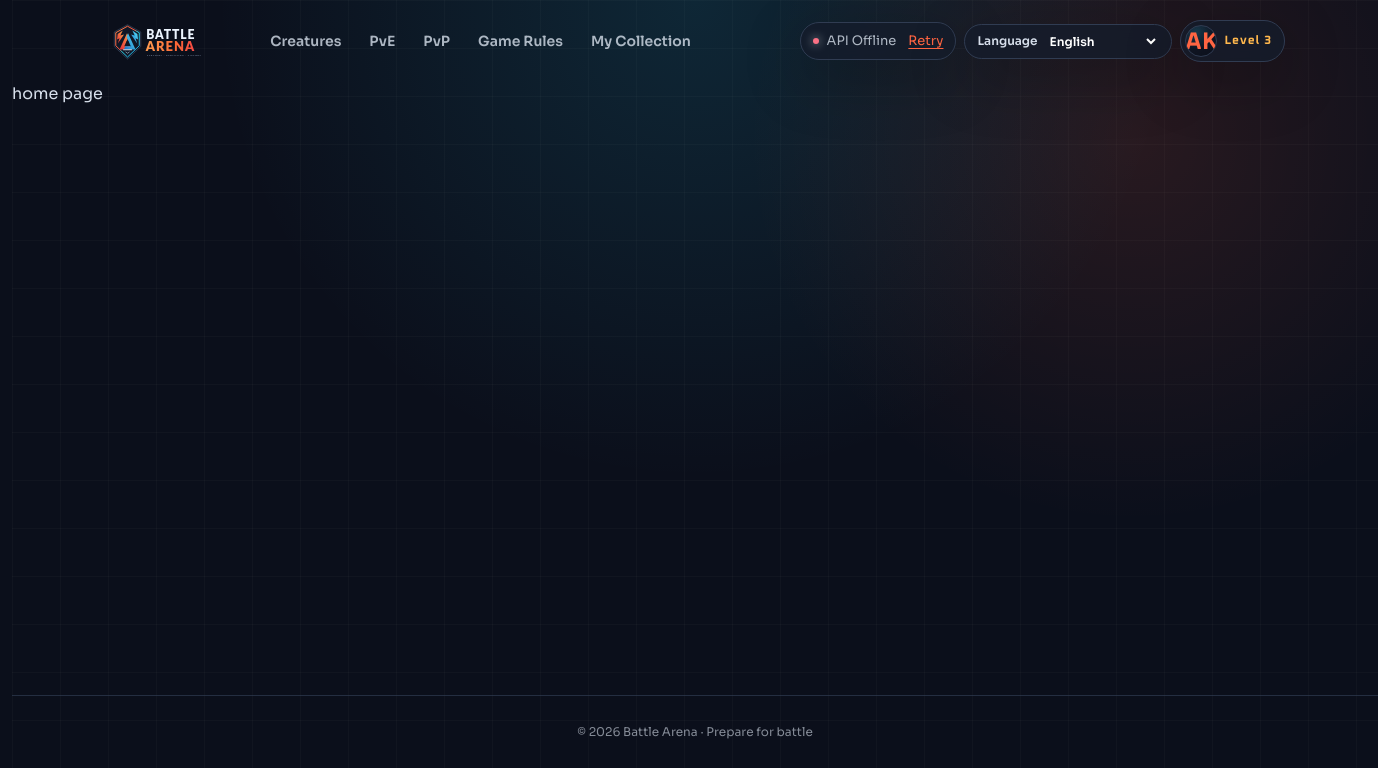
Scenario: AppShell navigation › shows a compact avatar dropdown with the level to authenticated trainers
Click the button with aria-label "Account menu". click: click(1232, 41)
box: [1180,20,1285,62]
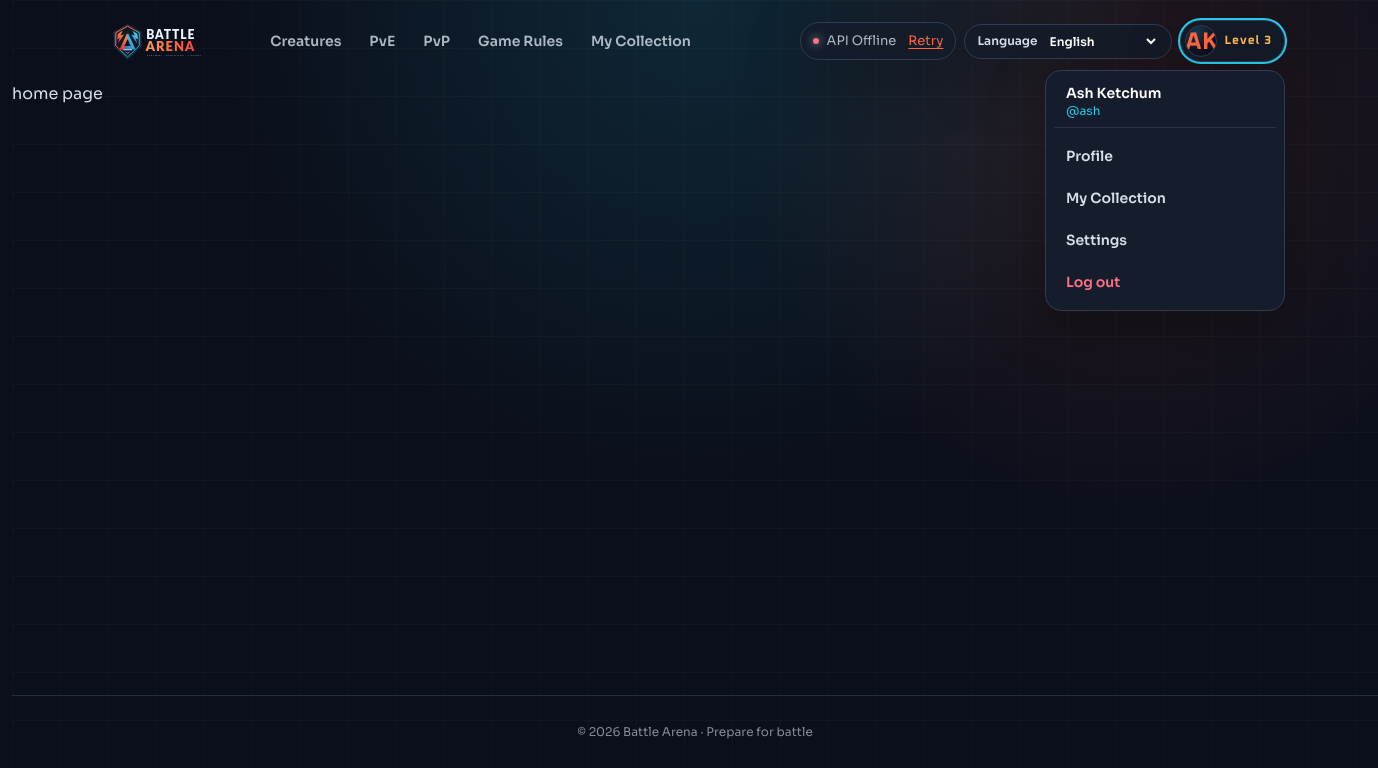
Check: the button with aria-label "Account menu" is expanded, box [1180,20,1285,62]
Check: the button "Log out" is shown, box [1054,262,1276,302]
Check: the text "@ash" is shown, box [1066,103,1100,118]
